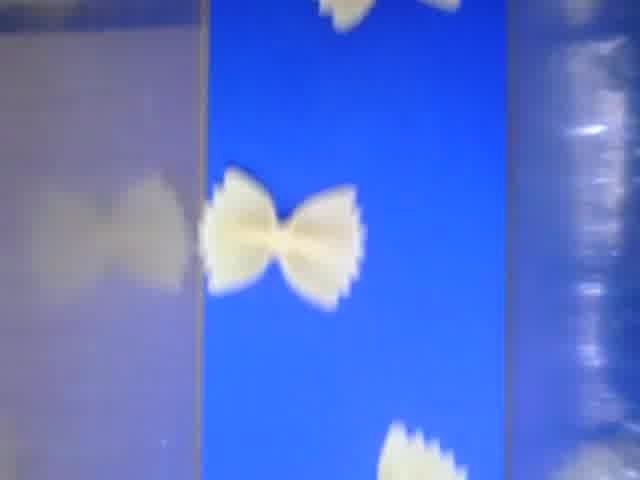farfalle: (198, 163, 364, 310), (374, 420, 468, 480)
